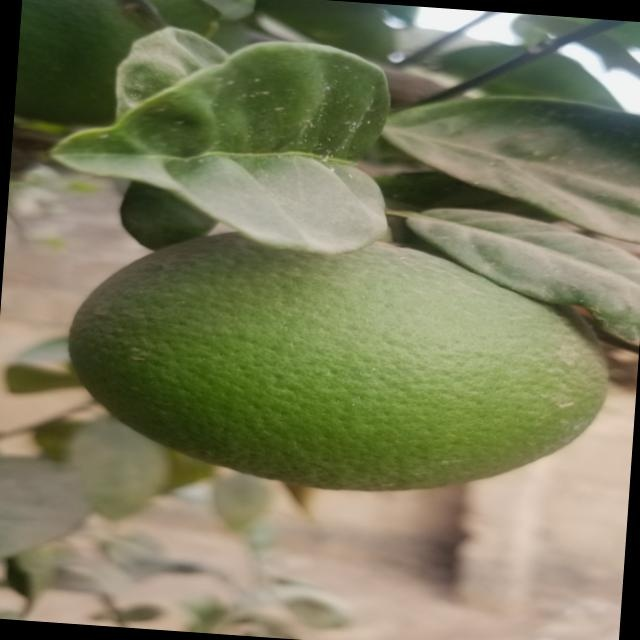agrume: (67, 217, 609, 506)
